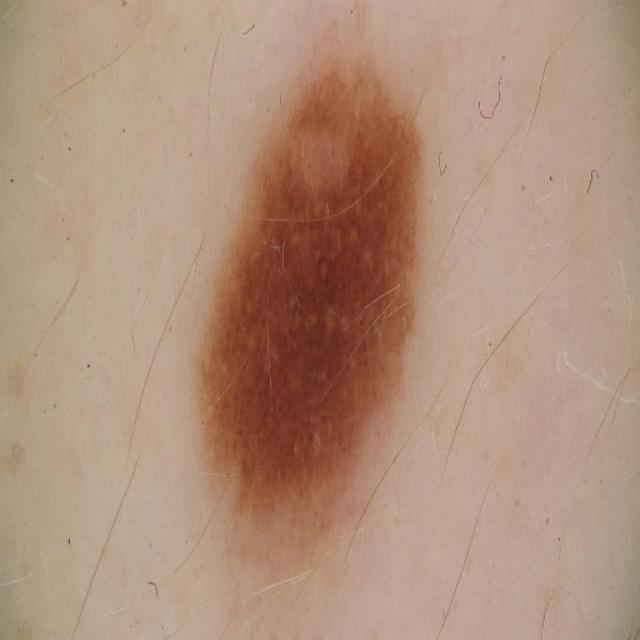Melanoma: (204, 68, 418, 509)
